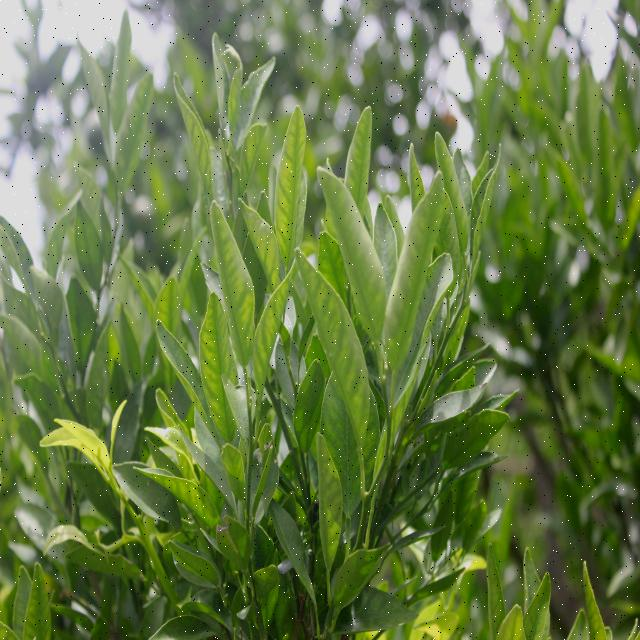greening: (384, 175, 447, 356), (303, 265, 364, 420), (328, 171, 384, 325), (222, 210, 264, 353), (278, 112, 310, 256), (178, 82, 213, 187), (202, 303, 232, 422), (155, 473, 220, 525), (248, 115, 273, 181)
